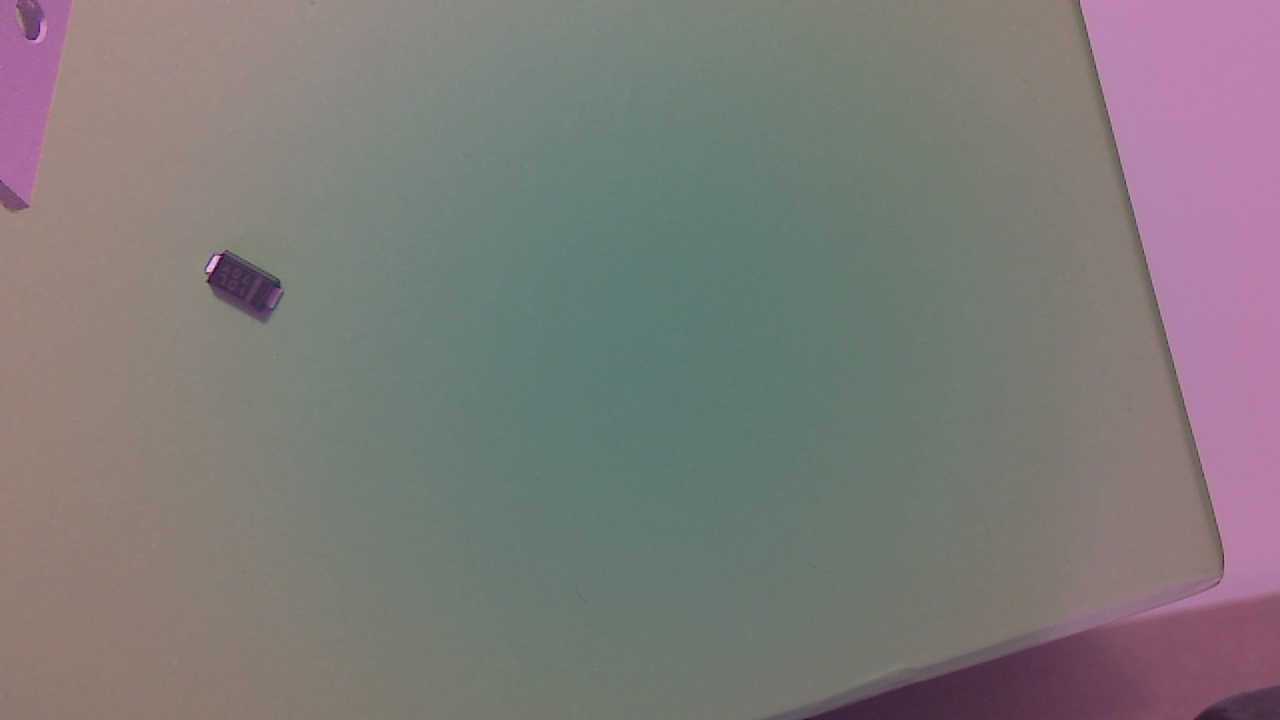Diode: (203, 257, 290, 322)
